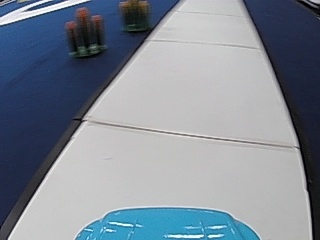corn: (66, 6, 107, 58), (120, 0, 151, 31)
